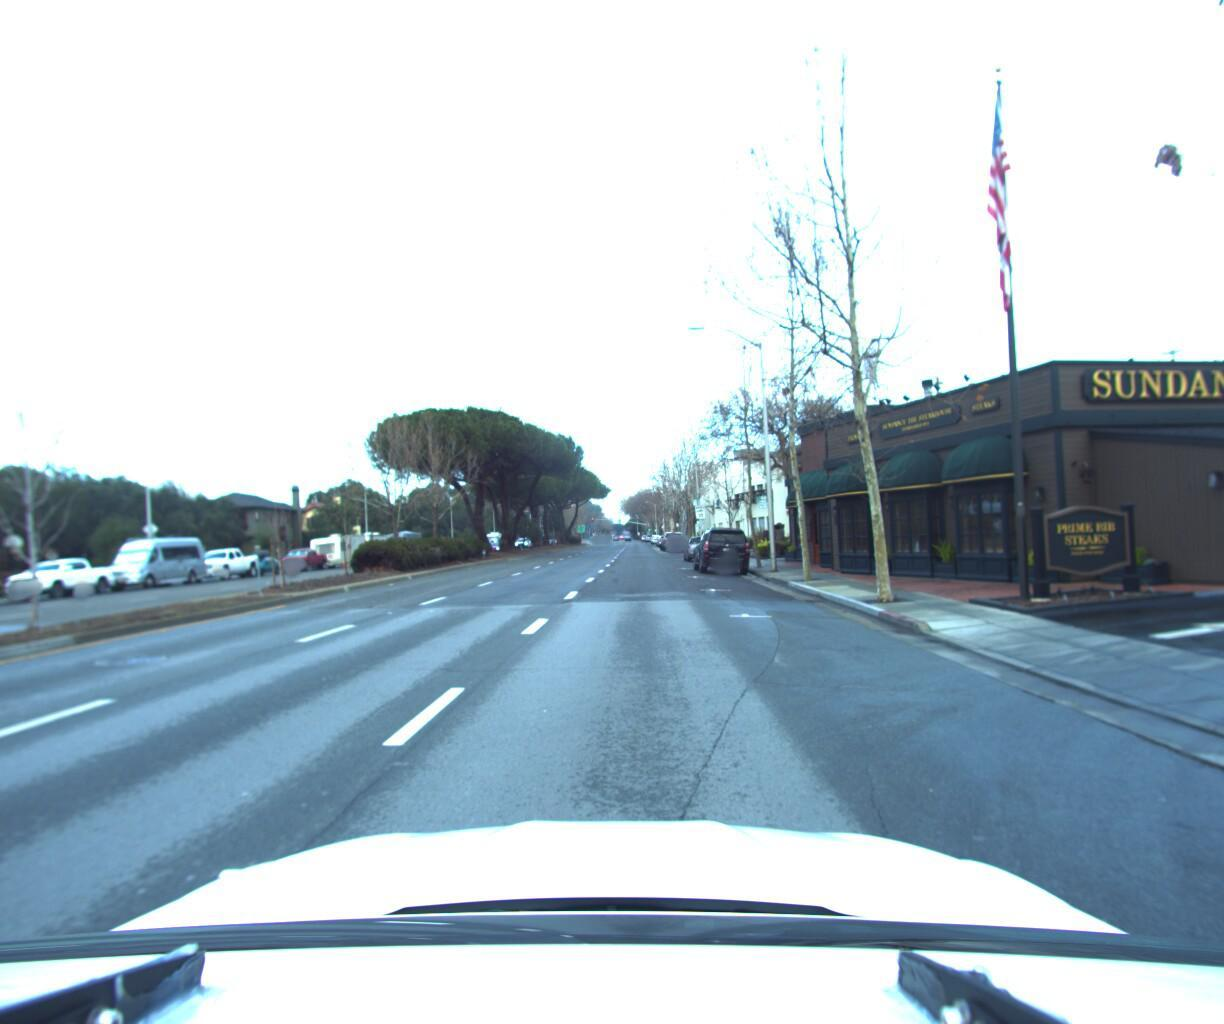car: (97, 532, 219, 594), (0, 556, 128, 607), (181, 546, 266, 584), (690, 522, 753, 568), (276, 545, 332, 574), (235, 548, 286, 577), (682, 530, 720, 558), (0, 573, 17, 624), (665, 529, 691, 549)
other_vehicle: (307, 529, 372, 568)
